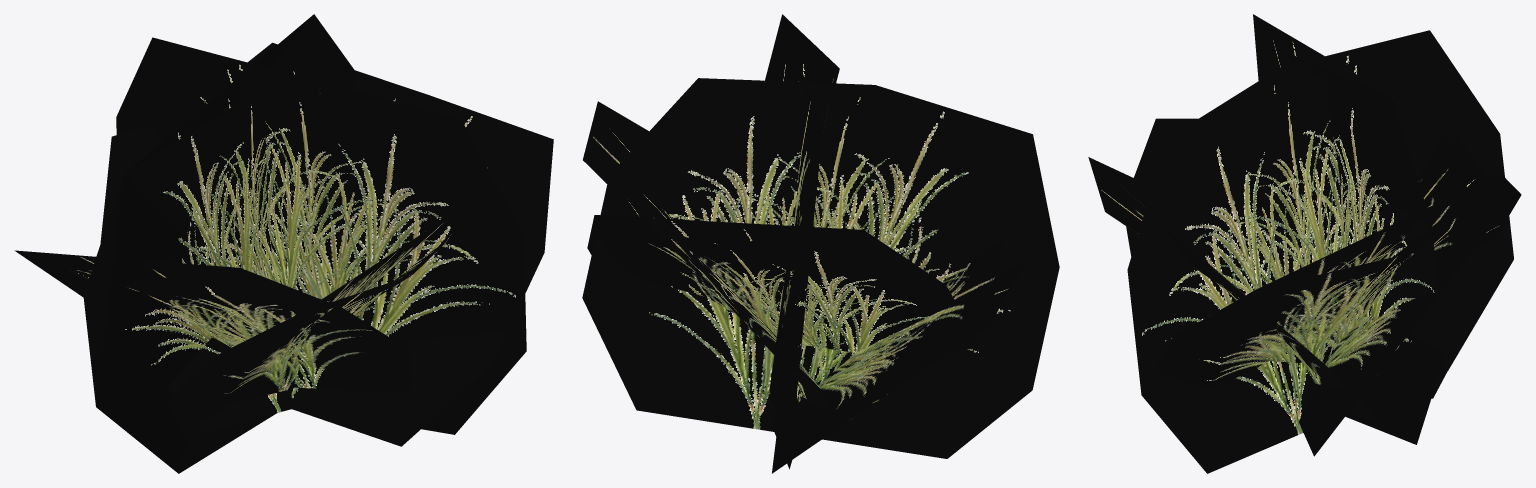
The model's file is africaGrass_02.DAE.
3 views of the same model, side by side, from view 1: azimuth 30°, elevation 25°; view 2: azimuth 150°, elevation 25°; view 3: azimuth 270°, elevation 25° (orthographic). The views are drawn at different scales.
Visible parts, largest first — view 1: africaGrassTwo256, africaGrassTwo128; view 2: africaGrassTwo128, africaGrassTwo256; view 3: africaGrassTwo128, africaGrassTwo256.
Part boxes in pixels (left/top/right/bottom): africaGrassTwo256: left=19, top=14, right=553, bottom=473; africaGrassTwo128: left=14, top=15, right=553, bottom=473; africaGrassTwo128: left=582, top=14, right=1032, bottom=473; africaGrassTwo256: left=582, top=14, right=1059, bottom=472; africaGrassTwo128: left=1093, top=14, right=1499, bottom=473; africaGrassTwo256: left=1088, top=14, right=1521, bottom=455.
Bounding box in the file's own units: 121 × 99.55 × 92.52.
